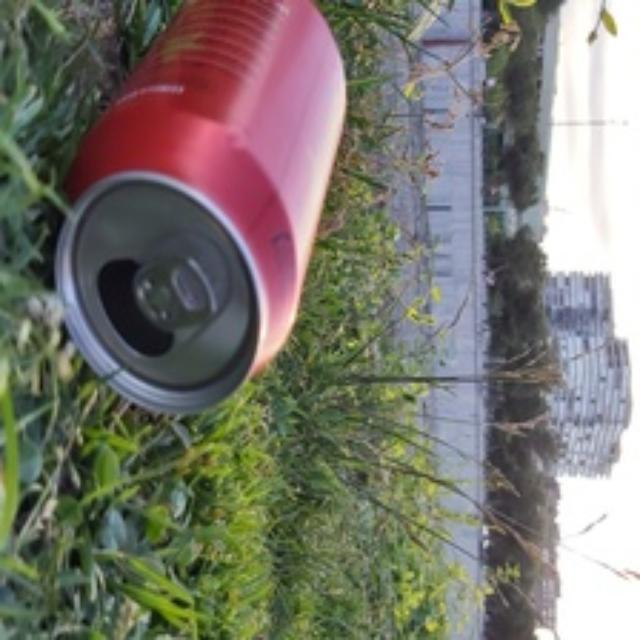Metal: (54, 0, 350, 412)
